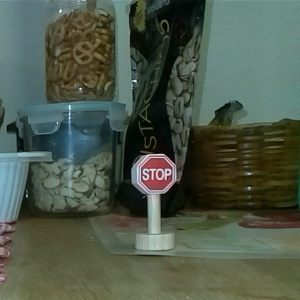stop sign: (129, 152, 180, 251)
